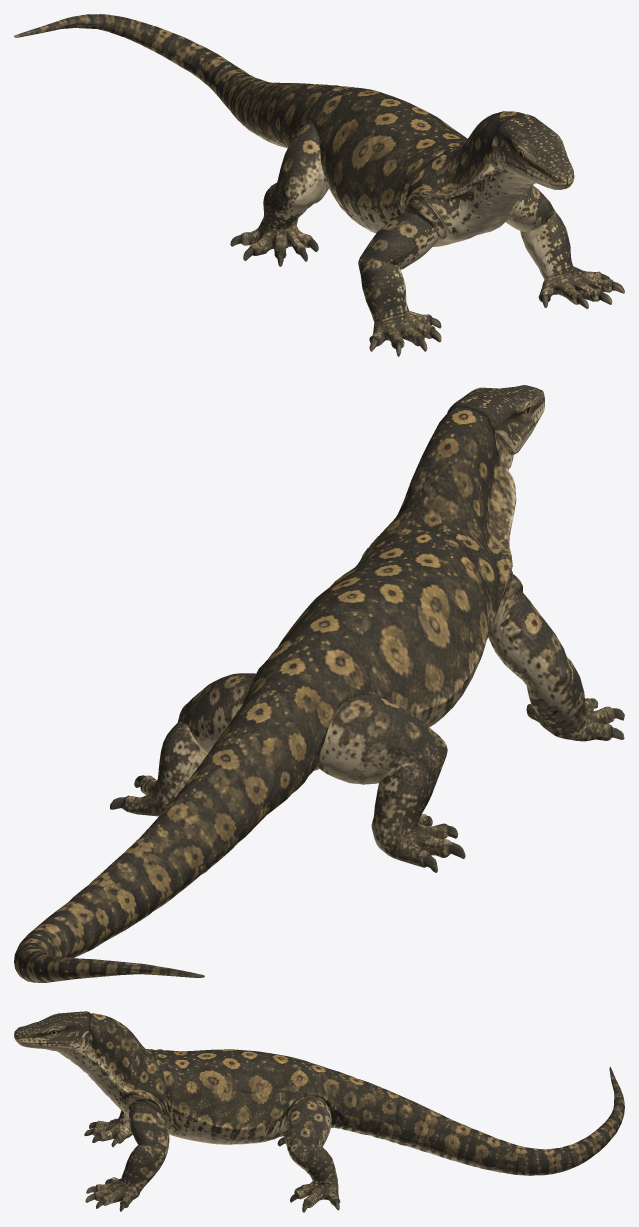
Rendered from monitor.glb.
3 views of the same model, one above another, from view 1: azimuth 30°, elevation 25°; view 2: azimuth 150°, elevation 25°; view 3: azimuth 270°, elevation 25° (orthographic). The views are drawn at different scales.
Bounding box in the file's own units: 0.7003 × 0.5436 × 1.9.
Materials: 1 (1 with a texture image).
